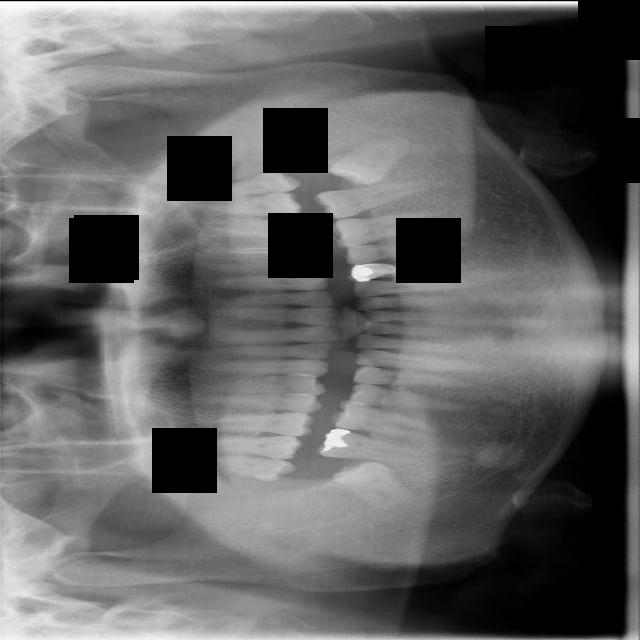3M ESPE Implant: (170, 444, 298, 484)
52: (314, 421, 363, 467), (347, 263, 393, 281), (284, 238, 323, 259)
73: (194, 240, 290, 259), (382, 261, 469, 277), (615, 12, 621, 16)
BioHorizons Implant: (186, 190, 304, 221)
BioLife Implant: (186, 169, 303, 200)
Biomet 3i Implant: (329, 122, 415, 200)
Blue Sky Bio Implant: (313, 177, 434, 221)
Caries: (180, 435, 303, 458)
Implant: (315, 425, 432, 465)
Keystone Dental Implant: (330, 443, 422, 521)
